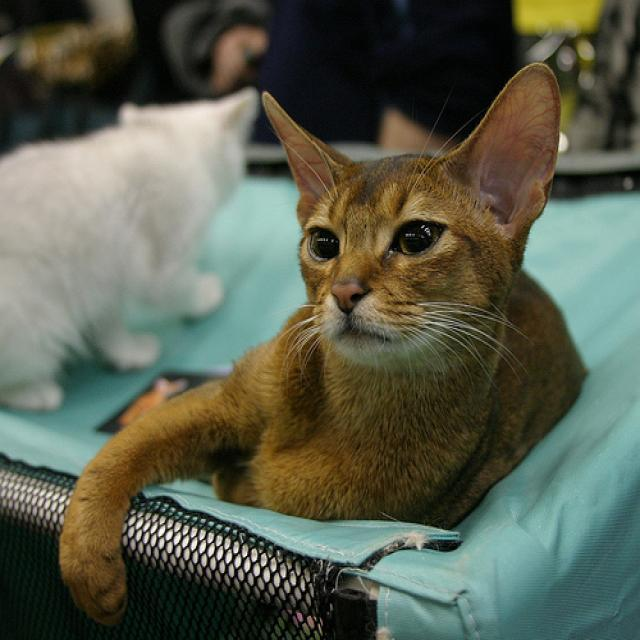Abyssinian: (257, 70, 531, 364)
